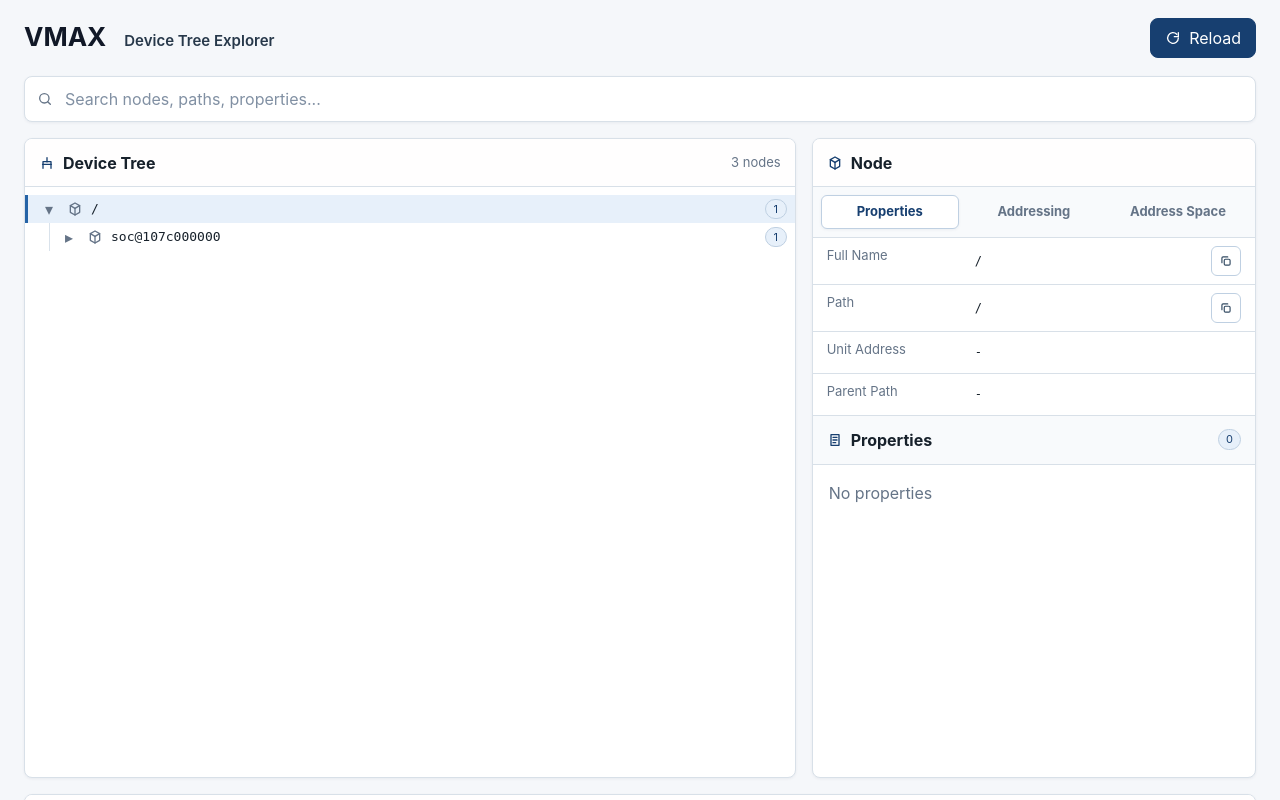
App › selects a search result and expands its ancestor path
This screenshot has width=1280, height=800.
Expected: the tab "Properties" is shown, 821,195 -> 959,228
Expected: the button "uart@1000" is not shown
Type "pl011" into the search field named "Search Device Tree". click: (653, 99)
box: 63,77 -> 1243,121
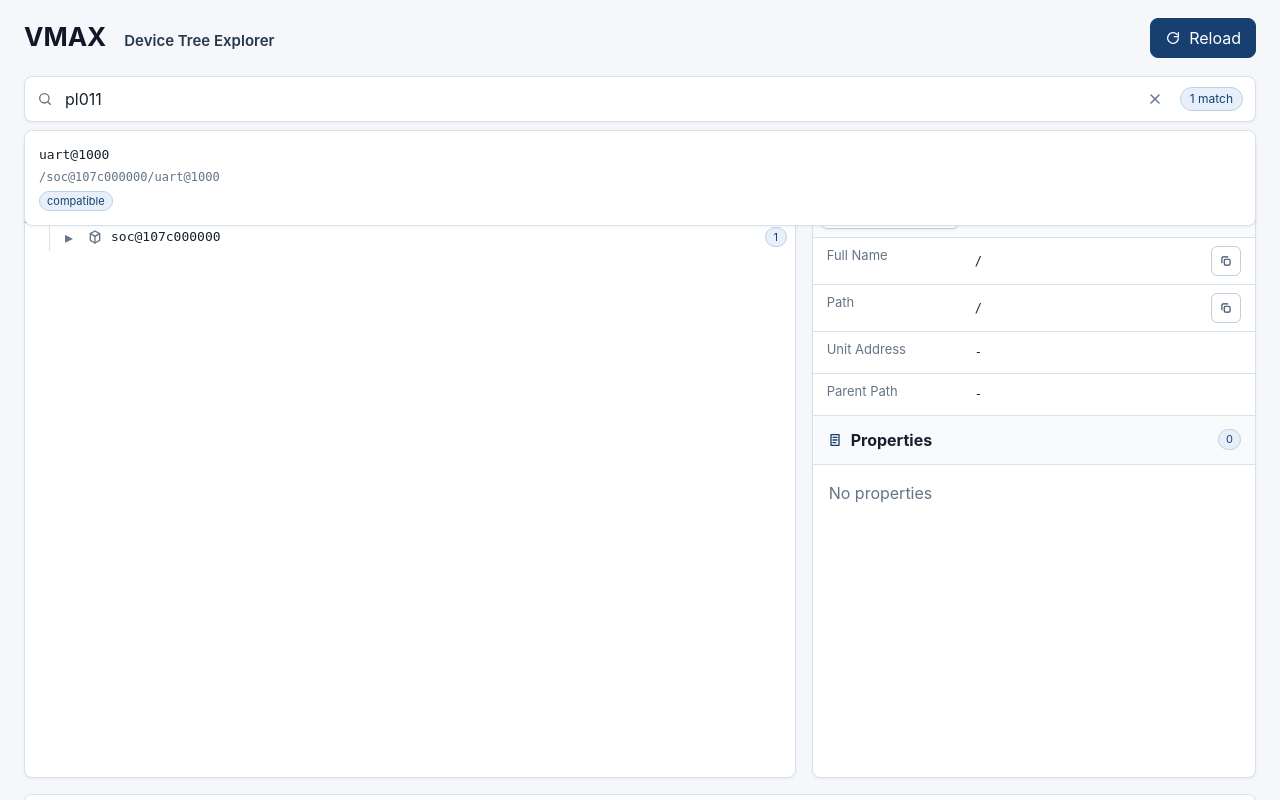
Click the button "uart@1000 /soc@107c000000/uart@1000 compatible". click: (74, 154)
box: 31,137 -> 1249,219
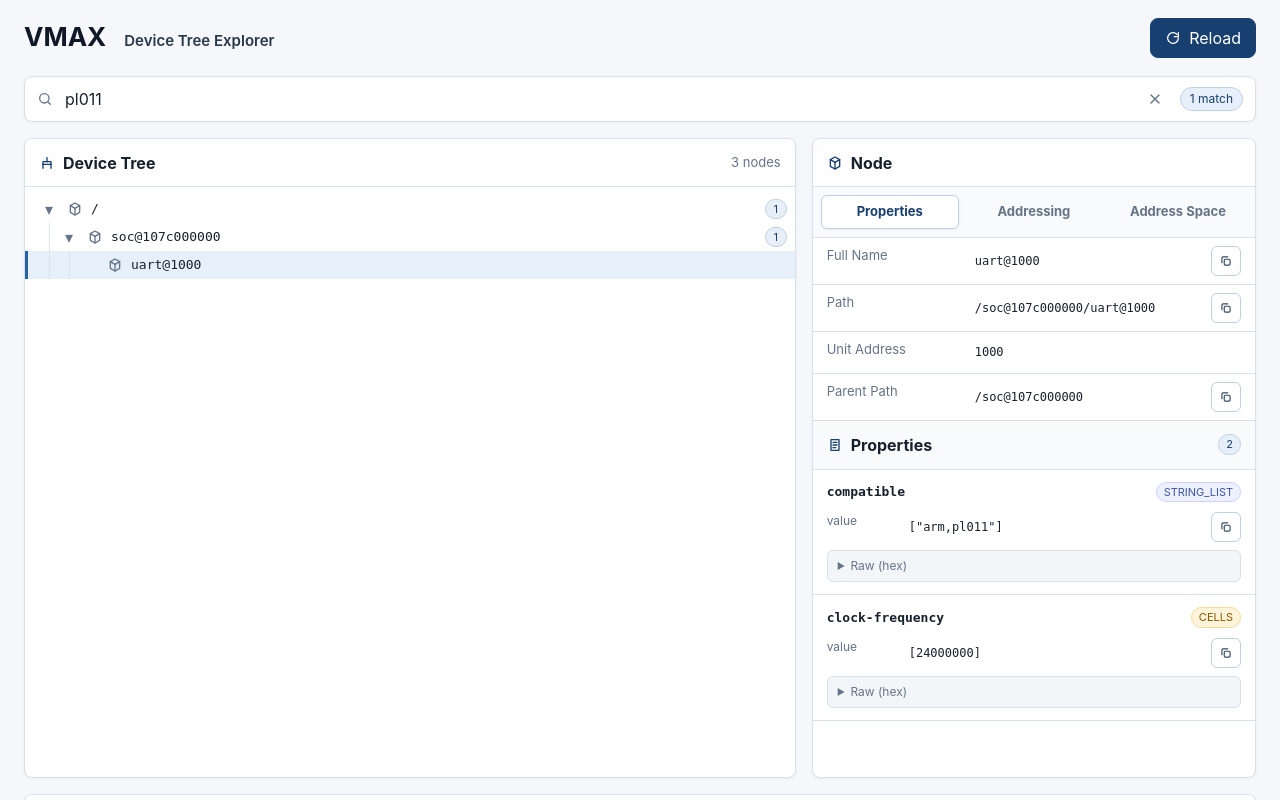
Expected: the button "uart@1000" is shown, 105,251 -> 787,279
Expected: the text "clock-frequency" is shown, 827,608 -> 944,627
Expected: the text "[24000000]" is shown, 909,644 -> 981,662
